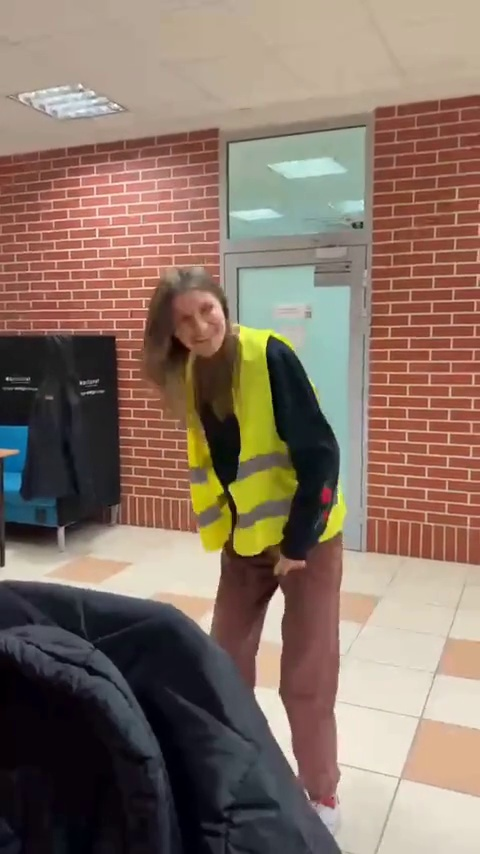vest: (129, 264, 368, 810)
